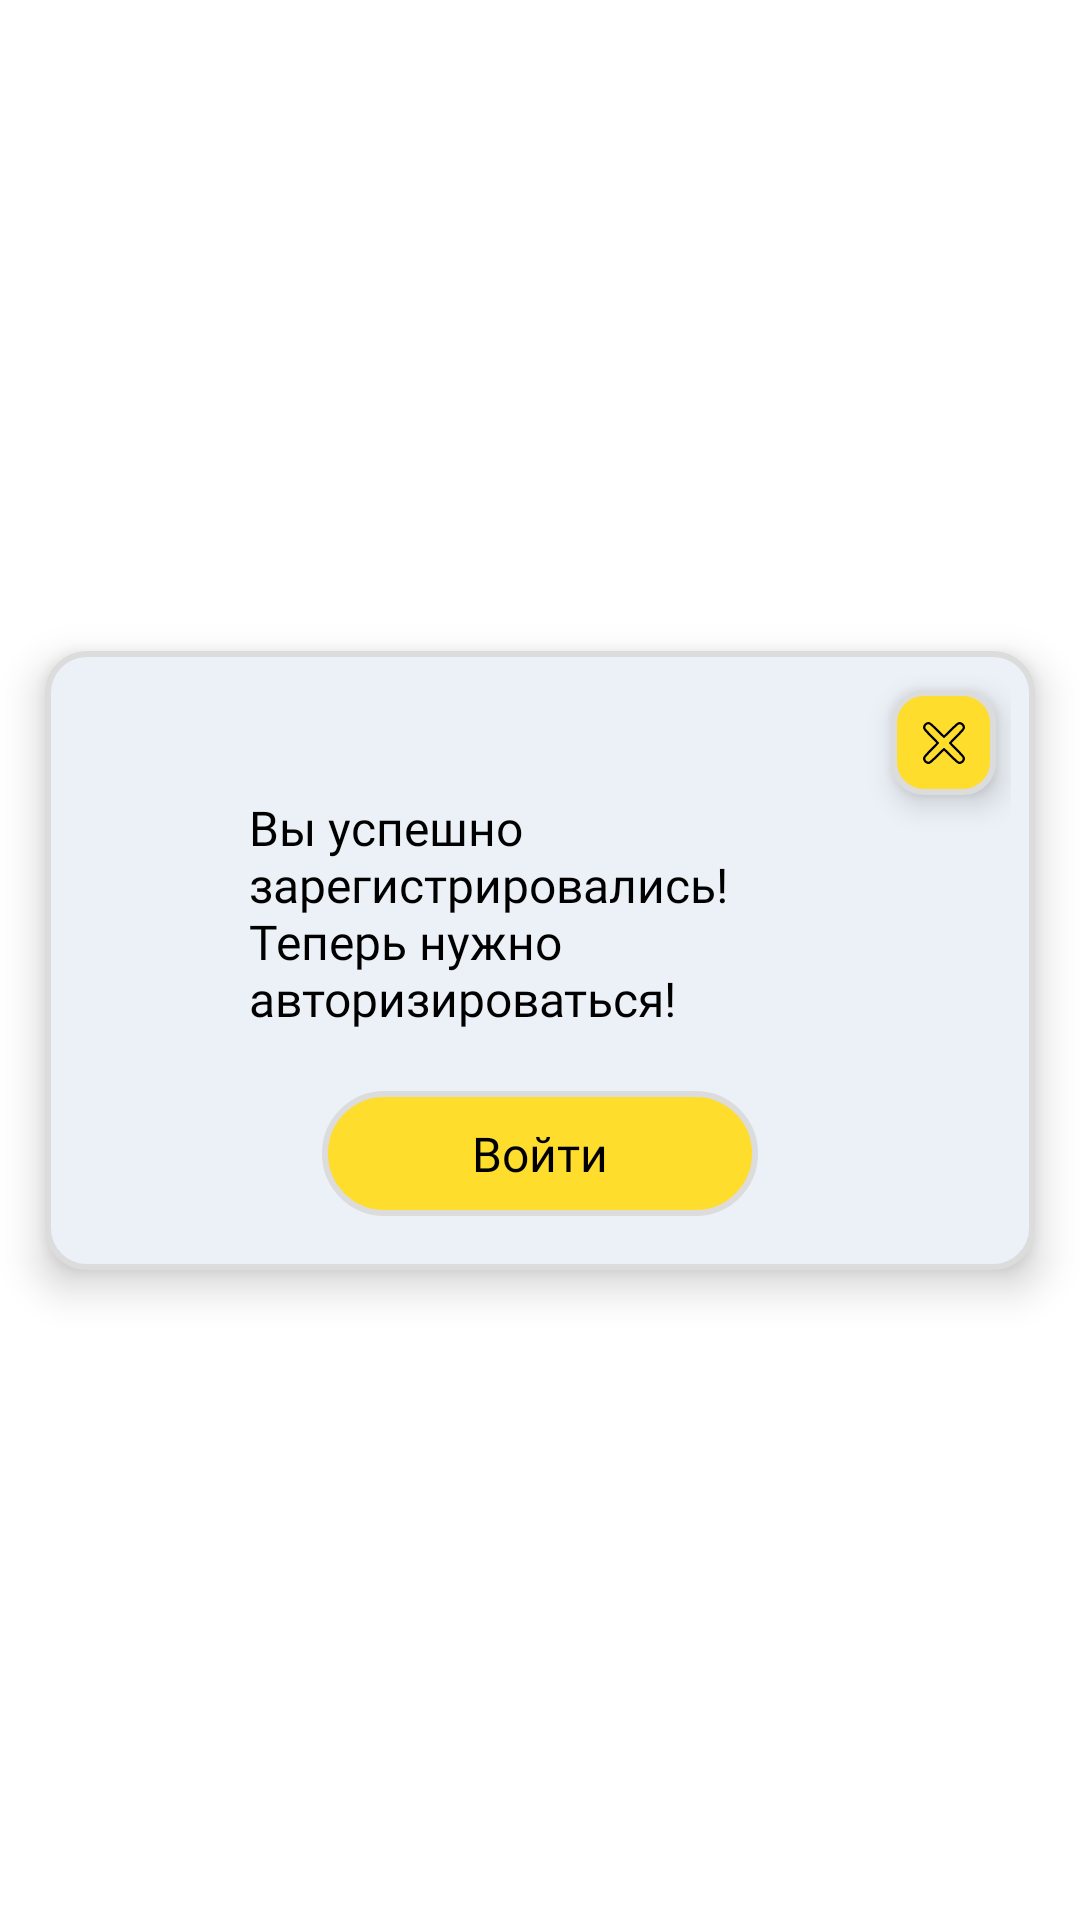

Icon bounding boxes for this 1080×1920 phone screenshot, format rect(x1, y1, x2, y2):
delete: rect(897, 696, 992, 795)
